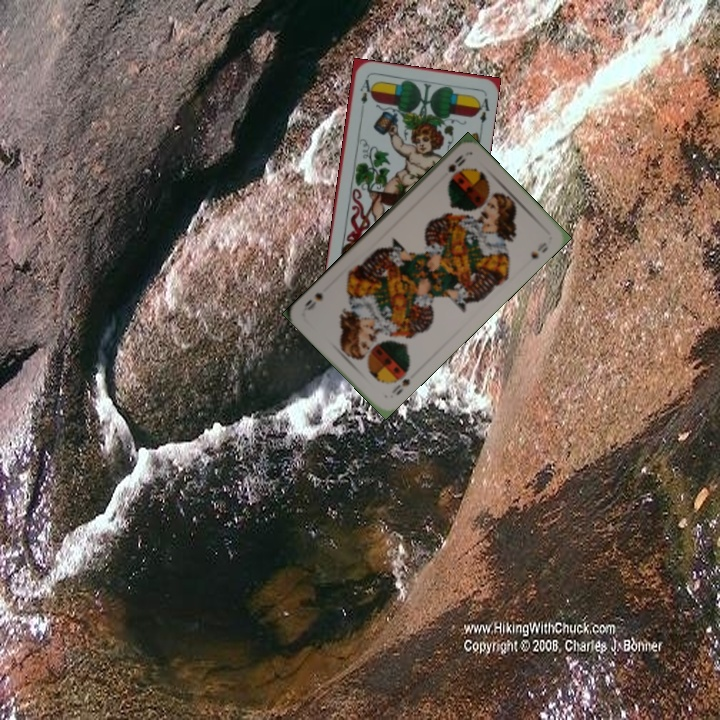EA: (356, 75, 373, 107)
SO: (387, 374, 413, 398), (444, 151, 469, 175)
